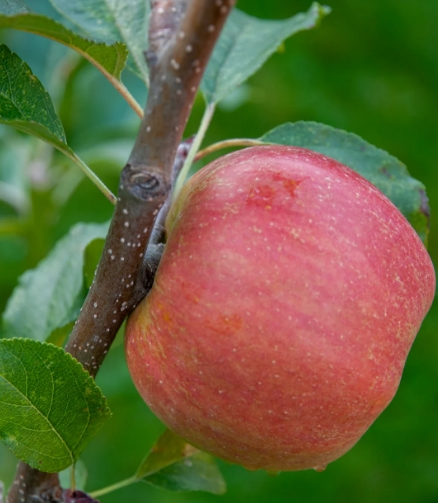apple/: (117, 148, 435, 479)
